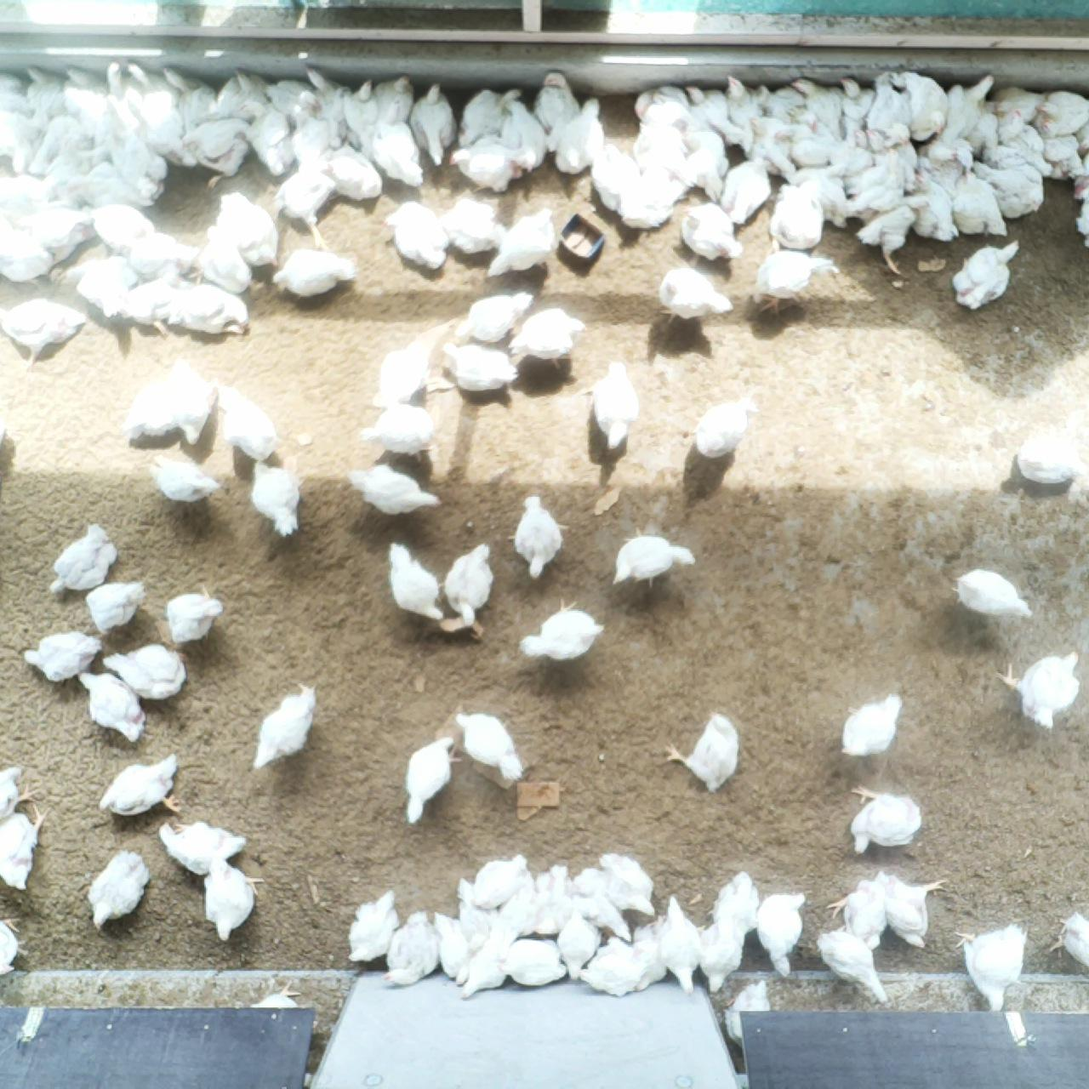chicken: (119, 351, 218, 444), (124, 61, 195, 170), (662, 706, 742, 796), (275, 142, 336, 257), (1001, 648, 1086, 730), (47, 249, 139, 323), (0, 292, 87, 370), (957, 922, 1029, 1016), (843, 129, 919, 215), (751, 246, 843, 315), (517, 595, 608, 664), (96, 749, 185, 819), (201, 851, 266, 945), (115, 259, 191, 339), (102, 116, 167, 209), (206, 189, 277, 272), (855, 196, 928, 276), (814, 923, 887, 1003), (843, 784, 925, 854), (158, 817, 249, 878), (347, 462, 445, 518), (585, 358, 642, 454), (485, 204, 557, 280), (404, 732, 462, 826), (447, 130, 526, 199), (252, 681, 315, 767), (214, 382, 280, 464), (47, 521, 120, 595), (88, 847, 152, 931), (654, 893, 708, 992), (508, 305, 588, 371), (611, 526, 697, 587), (164, 275, 251, 335), (881, 873, 950, 948), (59, 160, 153, 215), (382, 198, 449, 274), (100, 643, 186, 702), (356, 402, 442, 461), (76, 673, 147, 744), (181, 117, 251, 189), (454, 710, 524, 782), (377, 908, 439, 989), (376, 331, 440, 409), (386, 539, 446, 622), (951, 239, 1020, 311), (442, 537, 495, 630), (371, 100, 427, 188), (507, 493, 564, 579), (147, 441, 223, 505), (60, 64, 120, 145), (656, 264, 734, 326), (930, 76, 998, 147), (615, 167, 686, 235), (838, 690, 904, 763), (269, 246, 358, 300), (249, 454, 306, 538), (755, 888, 809, 976), (241, 97, 299, 178), (571, 865, 632, 942), (188, 223, 252, 296), (18, 202, 92, 265), (344, 885, 403, 964), (783, 166, 854, 231), (694, 394, 763, 460), (577, 934, 647, 999), (594, 847, 658, 918), (121, 224, 202, 280), (995, 106, 1057, 179), (457, 928, 518, 1002), (973, 160, 1047, 221), (767, 180, 827, 255), (533, 69, 583, 158), (23, 627, 101, 684), (496, 96, 553, 174), (302, 64, 356, 146), (589, 141, 647, 217), (27, 110, 88, 182), (899, 171, 960, 243), (696, 907, 747, 993), (453, 287, 537, 339), (898, 68, 954, 146), (456, 84, 521, 151), (681, 82, 746, 149), (438, 194, 507, 257), (0, 801, 49, 889), (523, 861, 578, 939), (553, 97, 607, 176), (407, 81, 457, 166), (950, 166, 1009, 238), (438, 342, 522, 392), (863, 70, 918, 146), (715, 154, 775, 223), (487, 868, 539, 947), (833, 872, 887, 948), (709, 869, 763, 945), (952, 566, 1034, 616), (320, 143, 387, 204), (100, 60, 151, 140), (681, 200, 744, 263), (624, 909, 670, 995), (1013, 436, 1089, 488), (86, 201, 156, 257), (790, 74, 848, 141), (0, 213, 55, 282), (465, 852, 532, 908), (285, 102, 337, 174), (85, 577, 148, 636), (554, 907, 601, 985), (721, 75, 773, 145), (496, 938, 570, 987), (165, 585, 225, 645), (453, 876, 500, 952), (158, 66, 216, 127), (723, 979, 772, 1051), (211, 68, 272, 123), (909, 135, 976, 185), (260, 75, 324, 127), (822, 121, 879, 179), (431, 911, 476, 984), (0, 168, 54, 228), (340, 77, 380, 157), (771, 121, 837, 168), (20, 66, 69, 129), (1032, 88, 1089, 137), (634, 120, 682, 178), (978, 144, 1044, 182), (682, 147, 728, 201), (835, 75, 875, 137), (751, 79, 806, 124), (1041, 133, 1089, 184), (0, 105, 34, 174), (1050, 911, 1089, 970), (0, 763, 37, 825), (989, 82, 1047, 119), (637, 90, 687, 132), (372, 76, 417, 122), (672, 123, 728, 159), (742, 114, 779, 168), (637, 80, 693, 115), (0, 915, 30, 975), (0, 66, 31, 117), (1074, 174, 1089, 243), (1073, 116, 1089, 156)
